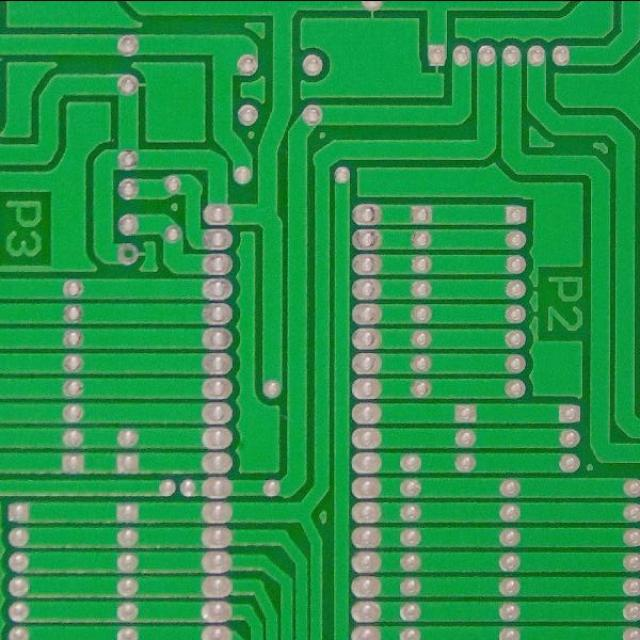missing_hole: (111, 238, 143, 267)
